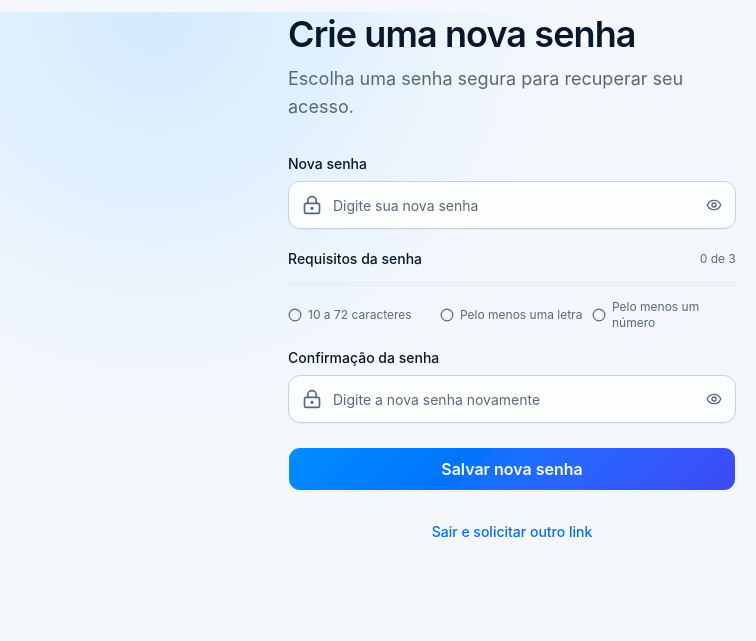
Scenario: UpdatePasswordForm › shows safe feedback for mfa_required
Type "nova-senha1" into the password field labelled "Nova senha" at coordinates (512, 205), box [288,181,736,229]
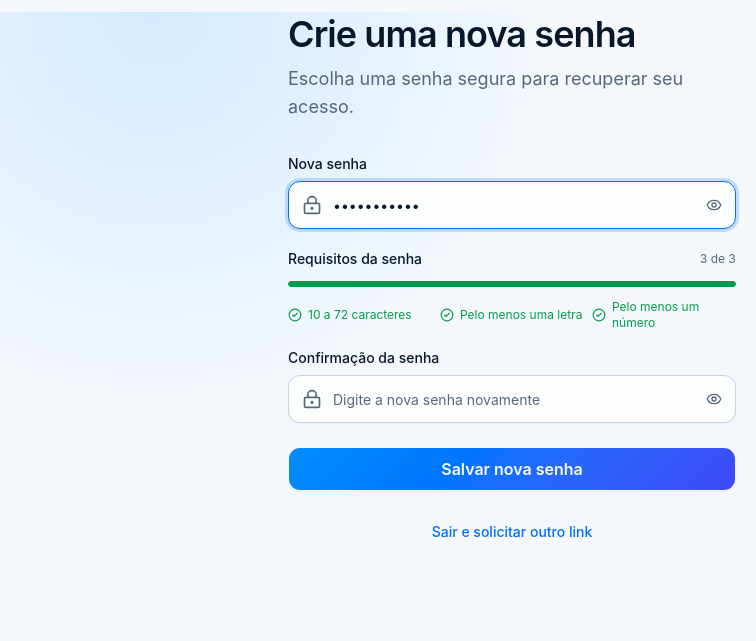
Type "nova-senha1" into the password field labelled "Confirmação da senha" at coordinates (512, 399), box [288,375,736,423]
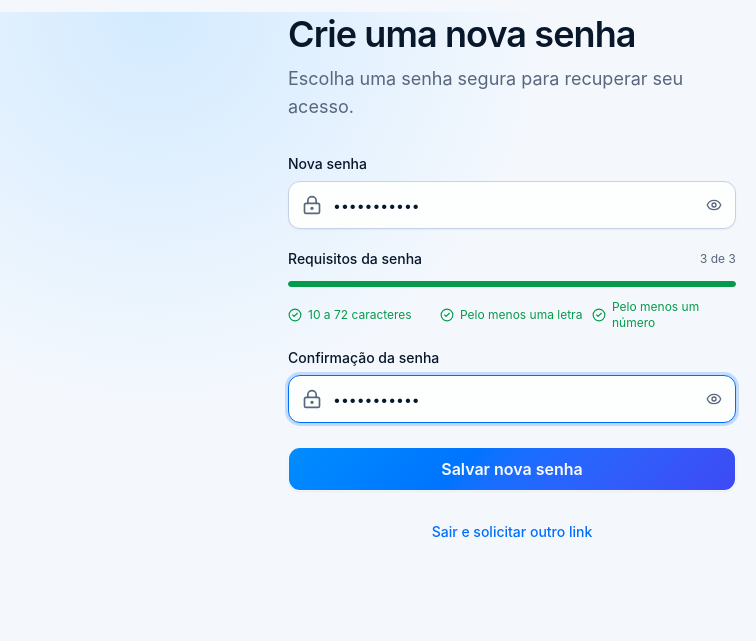
Click the button "Salvar nova senha" at coordinates (512, 469), box [288,447,736,491]
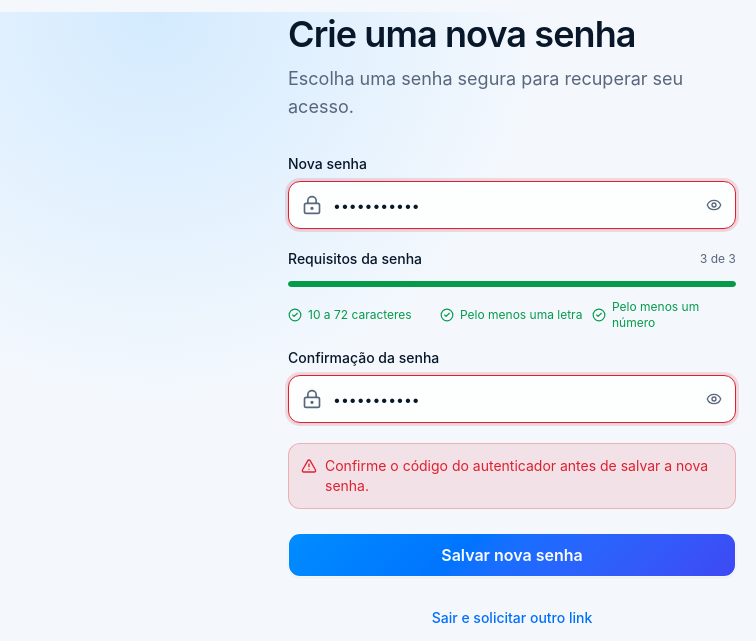
Expected: the message shows "Confirme o código do autenticador antes de salvar a nova senha", [325,457,708,494]
